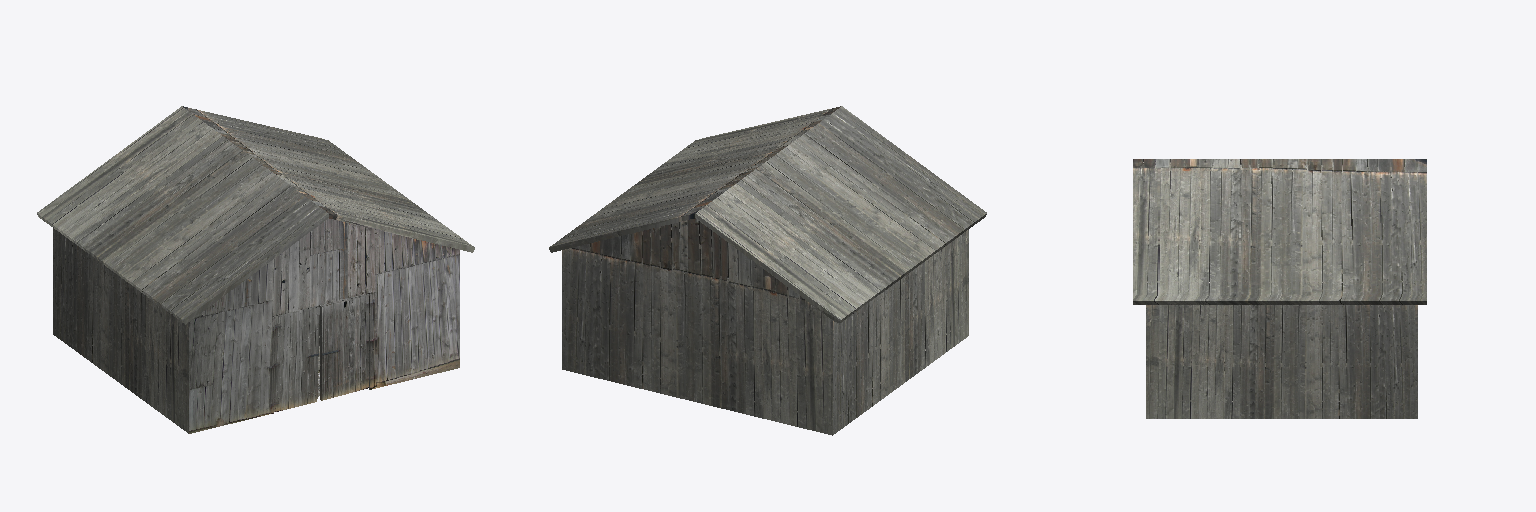
3 views of the same model, side by side, from view 1: azimuth 30°, elevation 25°; view 2: azimuth 150°, elevation 25°; view 3: azimuth 270°, elevation 25° (orthographic).
Parts seen in each view (by area): view 1: barn, door2, door1; view 2: barn; view 3: barn.
Part boxes in pixels (left/top/right/bottom): barn: left=37, top=106, right=474, bottom=433; door2: left=320, top=293, right=368, bottom=400; door1: left=274, top=306, right=319, bottom=411; barn: left=549, top=106, right=986, bottom=435; barn: left=1133, top=159, right=1426, bottom=418.
Bounding box in the file's own units: 25.24 × 15.93 × 21.94.
Materials: 3 (2 with a texture image).